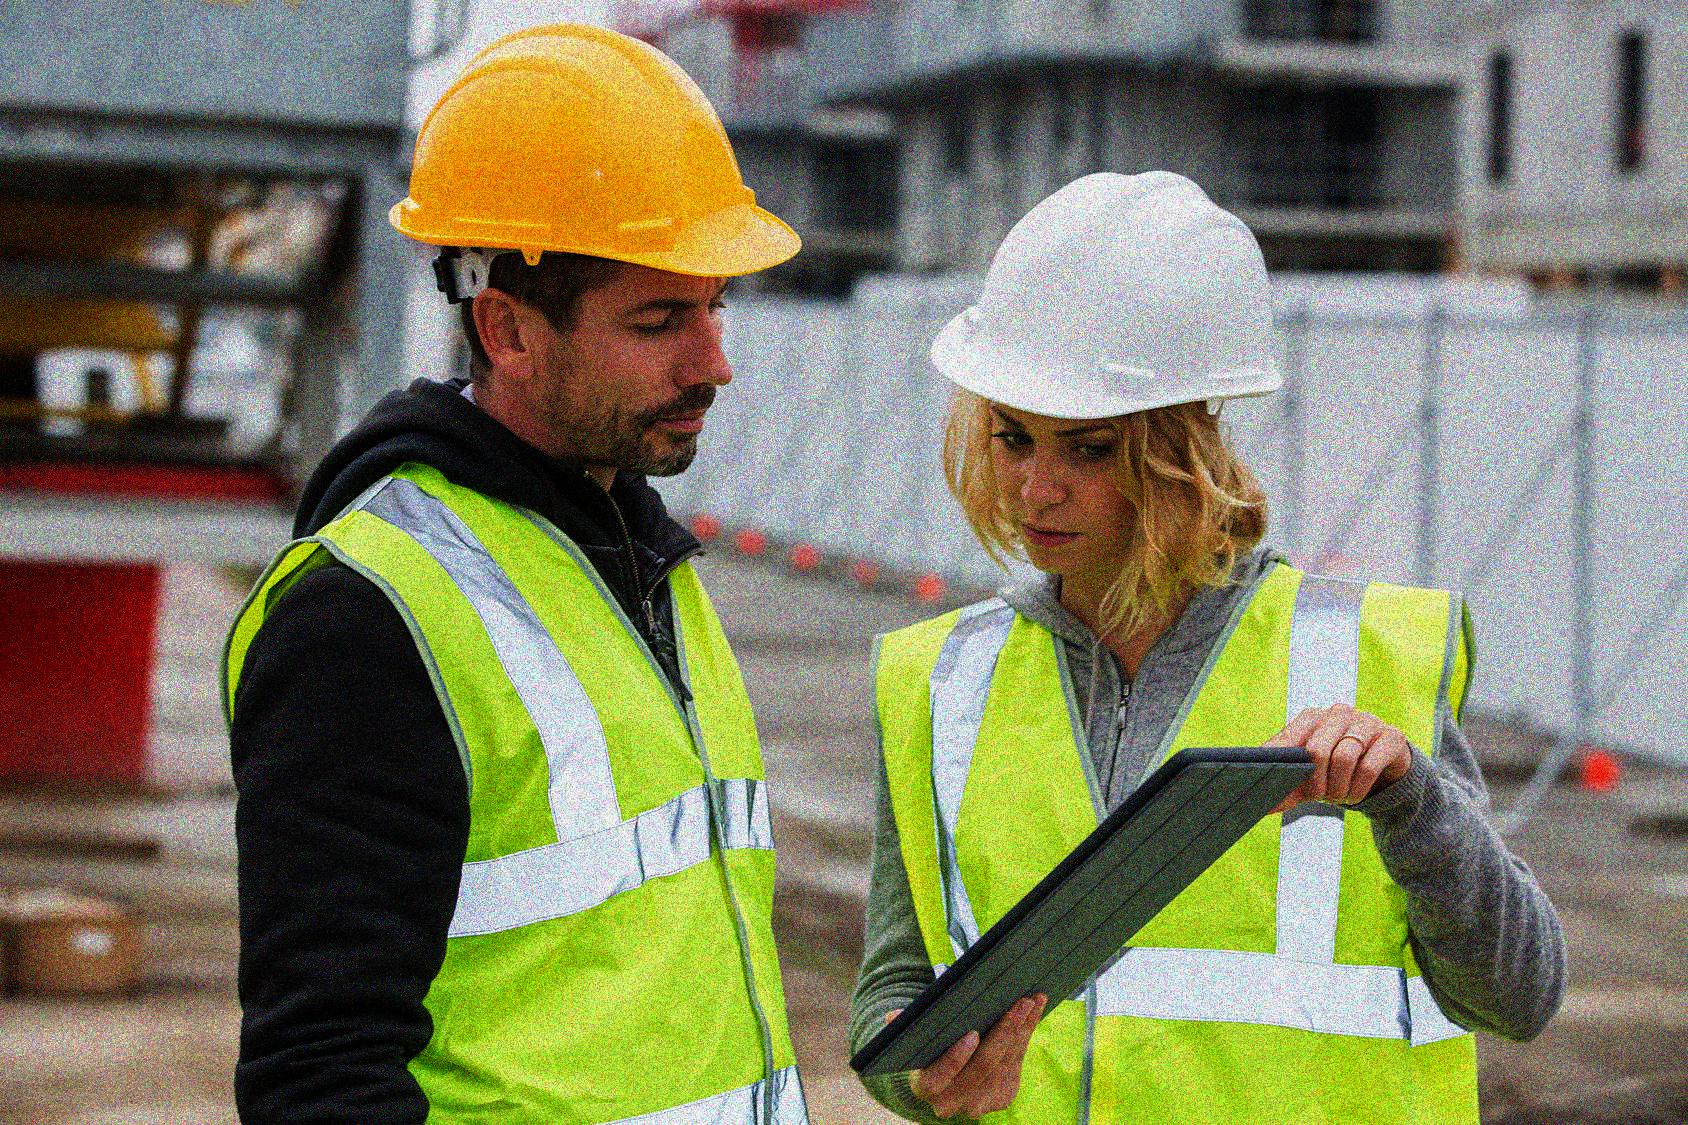helmet: (387, 23, 809, 472), (927, 163, 1285, 575)
